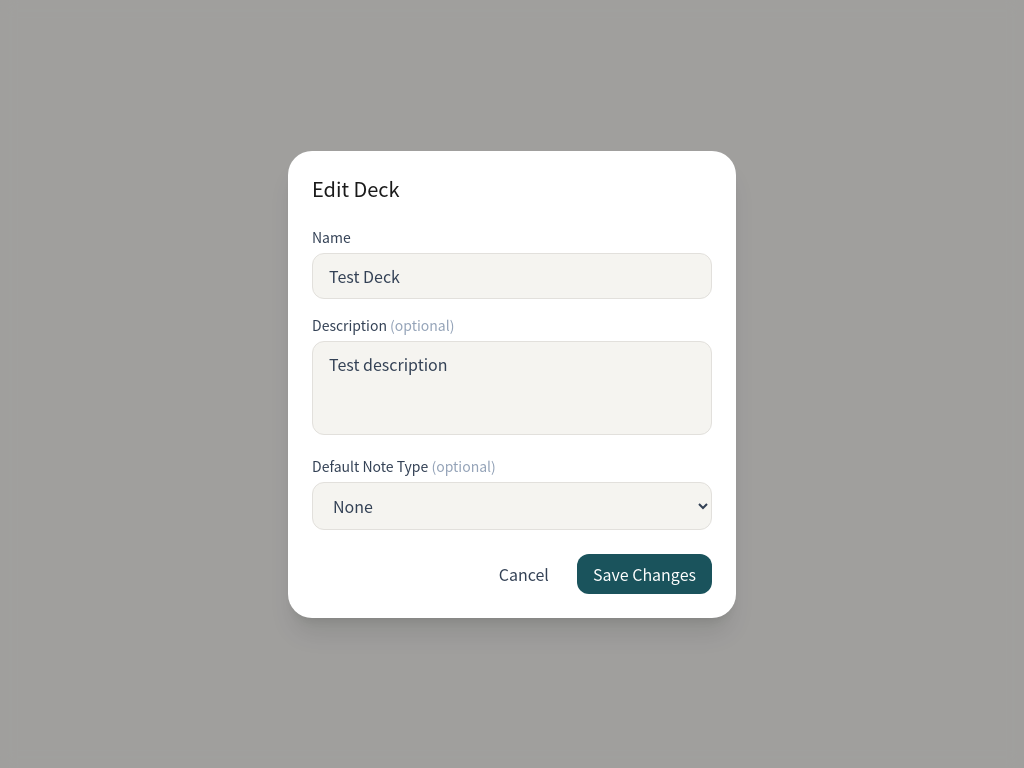
Test case: EditDeckModal › displays a generic error when the local write fails
This screenshot has width=1024, height=768.
Click the button "Save Changes": (644, 574) [577,554,712,594]
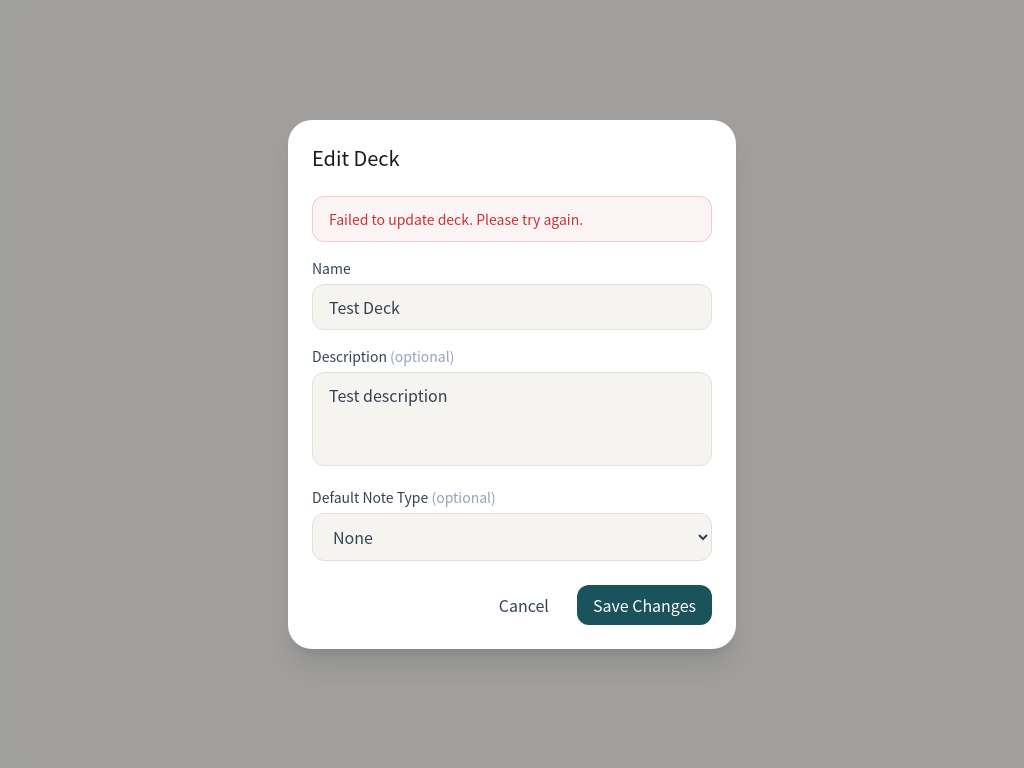
Check: the message reads "Failed to update deck. Please try again.", box [329,208,583,228]
